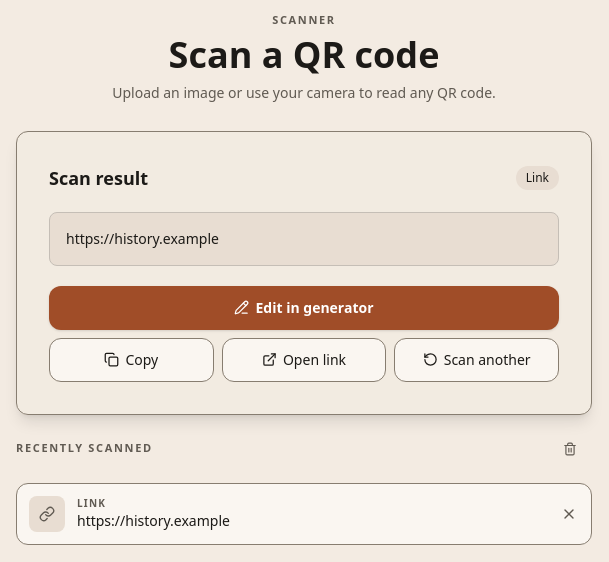
it: QRScanner — scan history › clears the history list
This screenshot has width=609, height=562.
expect the text "Recently scanned" is shown: met, box [16,440,153,457]
Click the button named "clear scan history": coordinates (570, 448) [548,426,592,470]
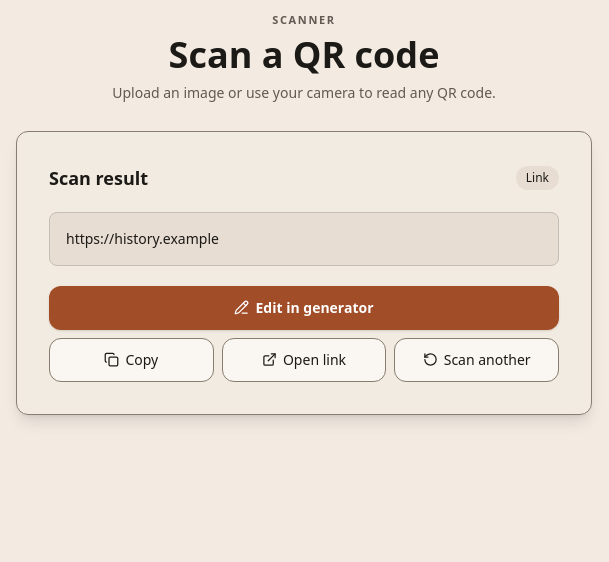
expect the text "Recently scanned" is gone: met
